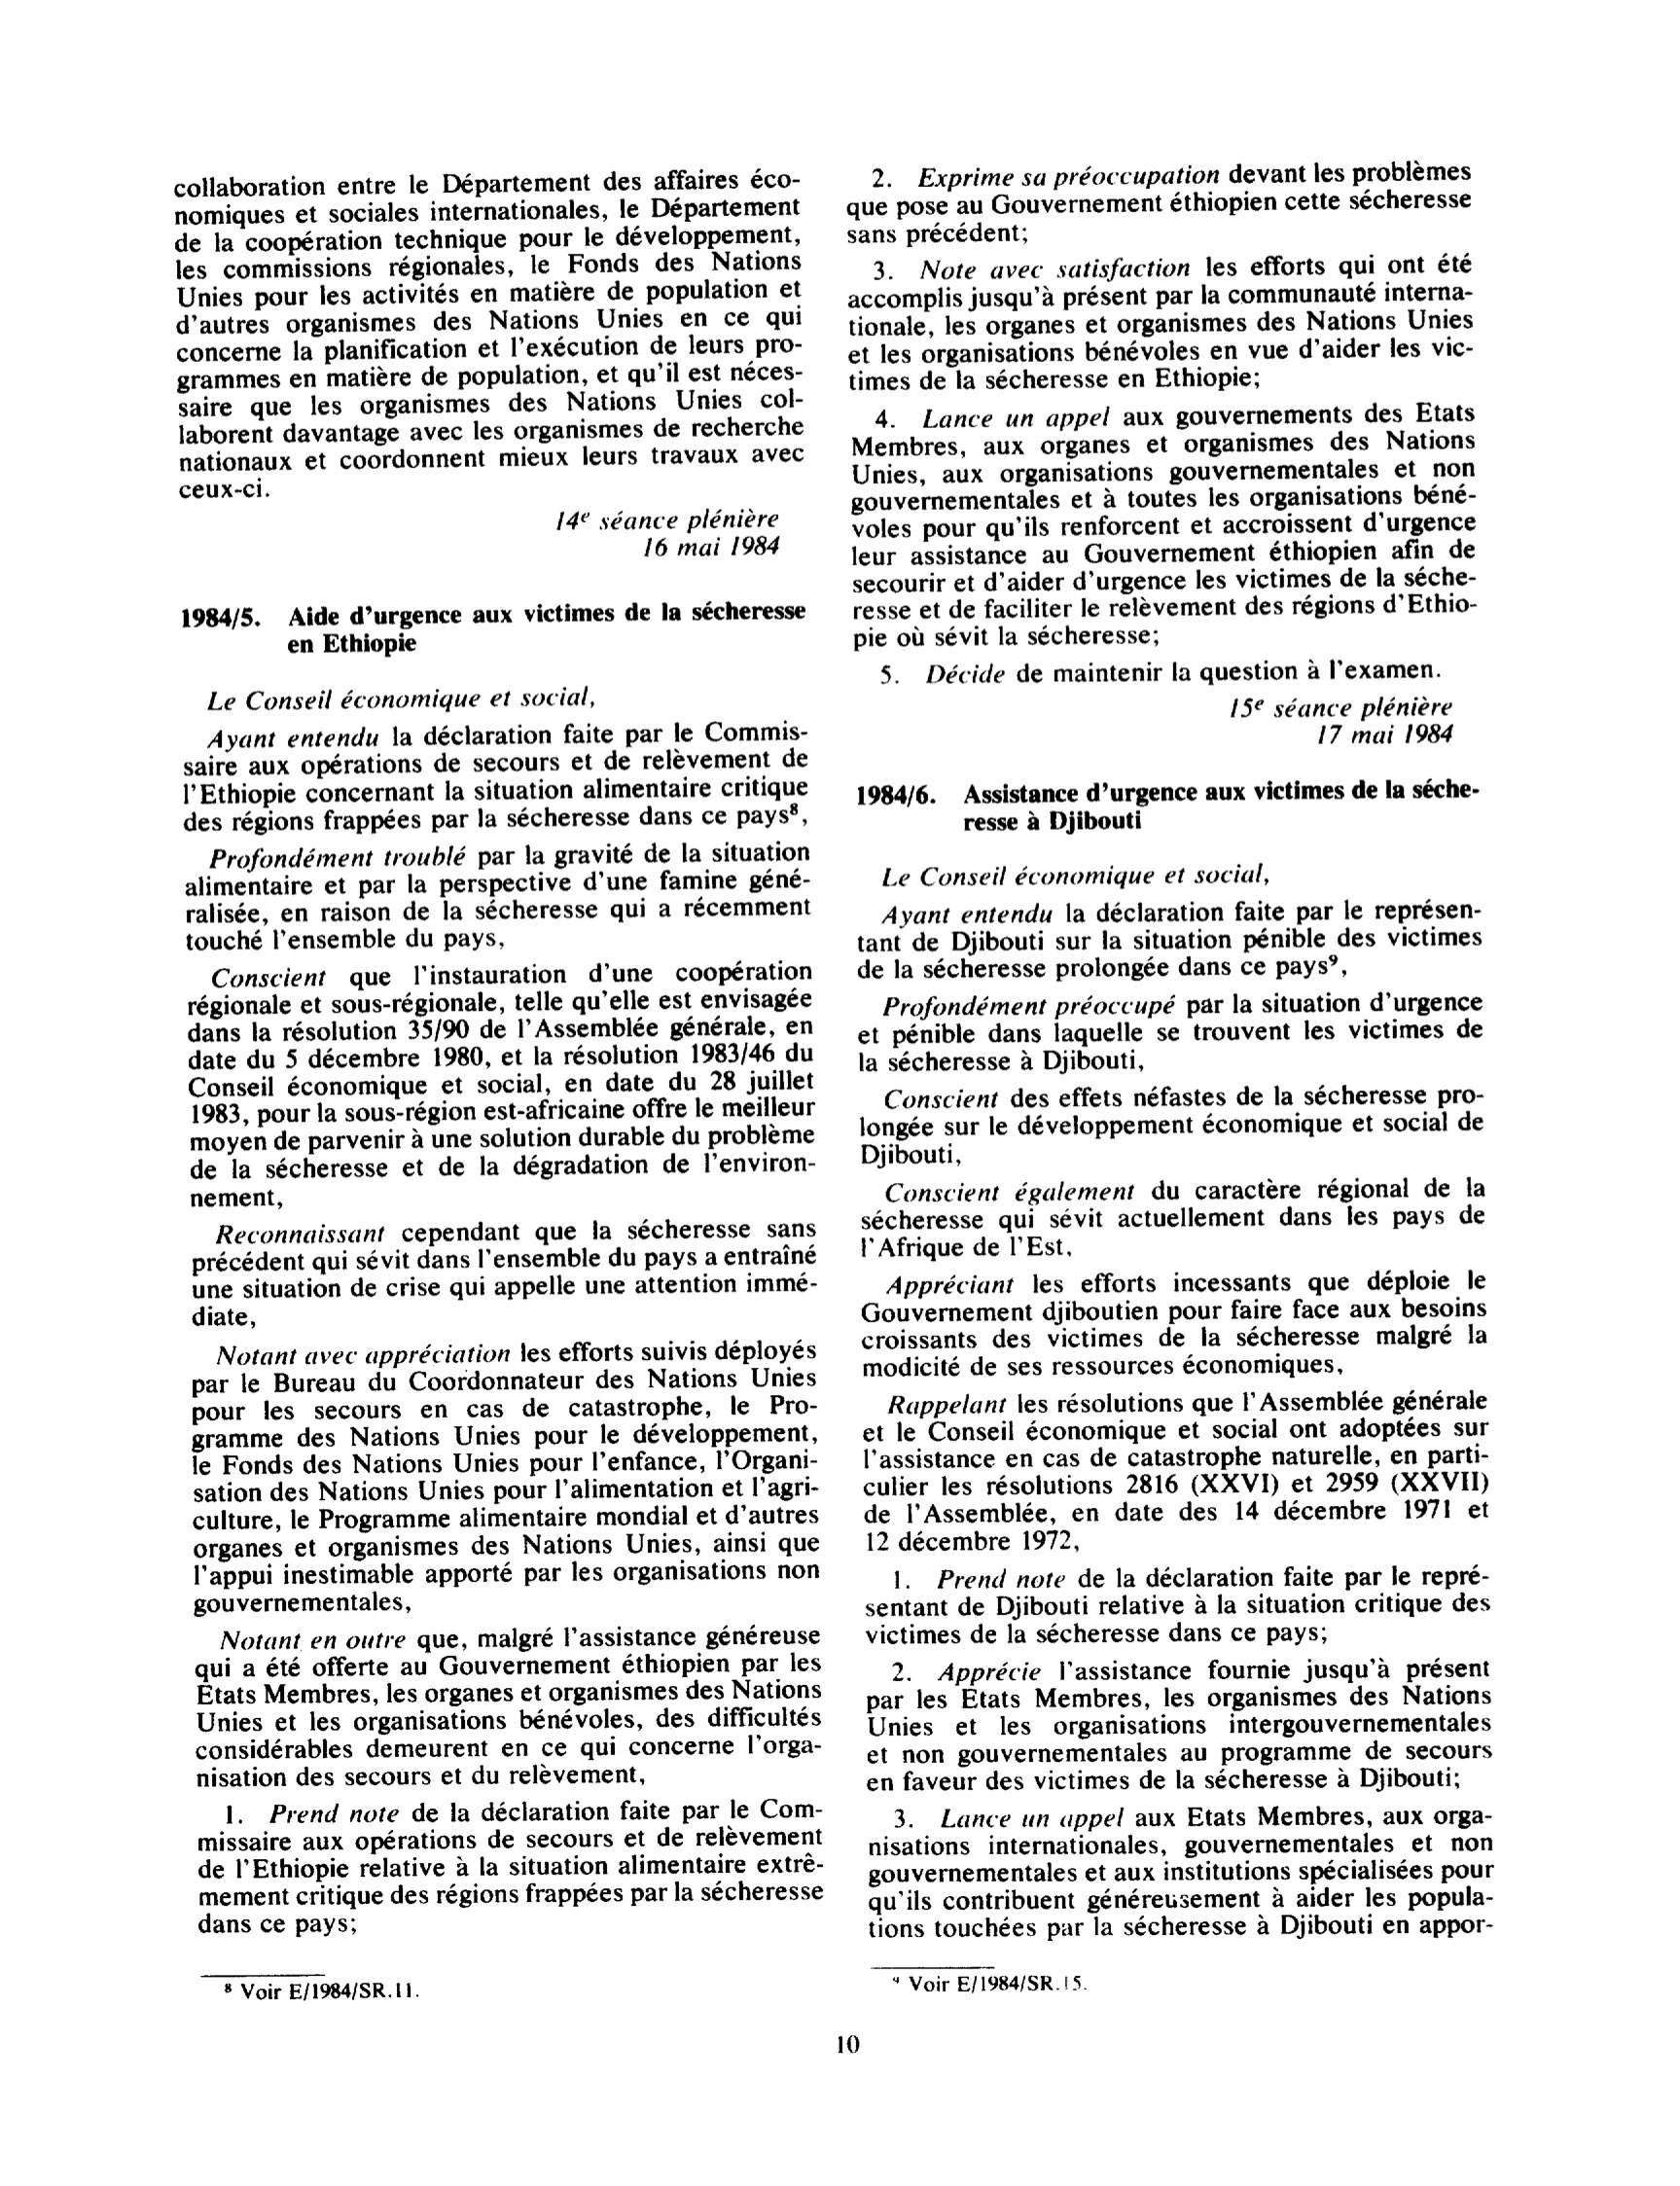MainZone-Continued: (165, 166, 810, 505)
MainZone-Date: (1294, 729, 1473, 760), (637, 535, 784, 569)
MainZone-Head: (172, 594, 812, 663), (851, 773, 1483, 842)
MainZone-ListItem: (843, 400, 1483, 650), (191, 1797, 831, 1943), (840, 252, 1481, 394), (861, 1802, 1505, 1942), (860, 1655, 1502, 1795), (839, 156, 1480, 251), (858, 1562, 1496, 1650), (868, 656, 1451, 688)
MainZone-P: (185, 1337, 827, 1621), (180, 958, 822, 1212), (858, 1386, 1496, 1557), (188, 1624, 830, 1791), (176, 719, 818, 836), (177, 838, 819, 954), (185, 1216, 827, 1333), (854, 1267, 1494, 1380), (854, 1174, 1491, 1264), (853, 1083, 1489, 1172), (851, 898, 1488, 986), (851, 989, 1488, 1077), (183, 679, 606, 716), (855, 857, 1281, 892)
MainZone-Signature: (545, 501, 804, 541), (1212, 694, 1467, 726)
MarginTextZone-Notes: (212, 1973, 430, 2014), (880, 1965, 1095, 2006)
NumberingZone: (829, 2026, 868, 2069)
